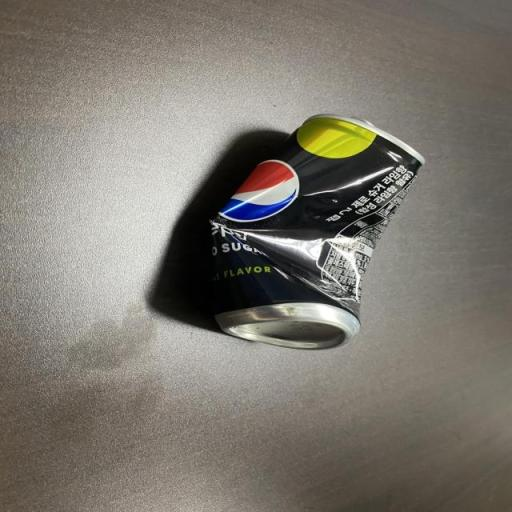metal: (180, 86, 436, 366)
